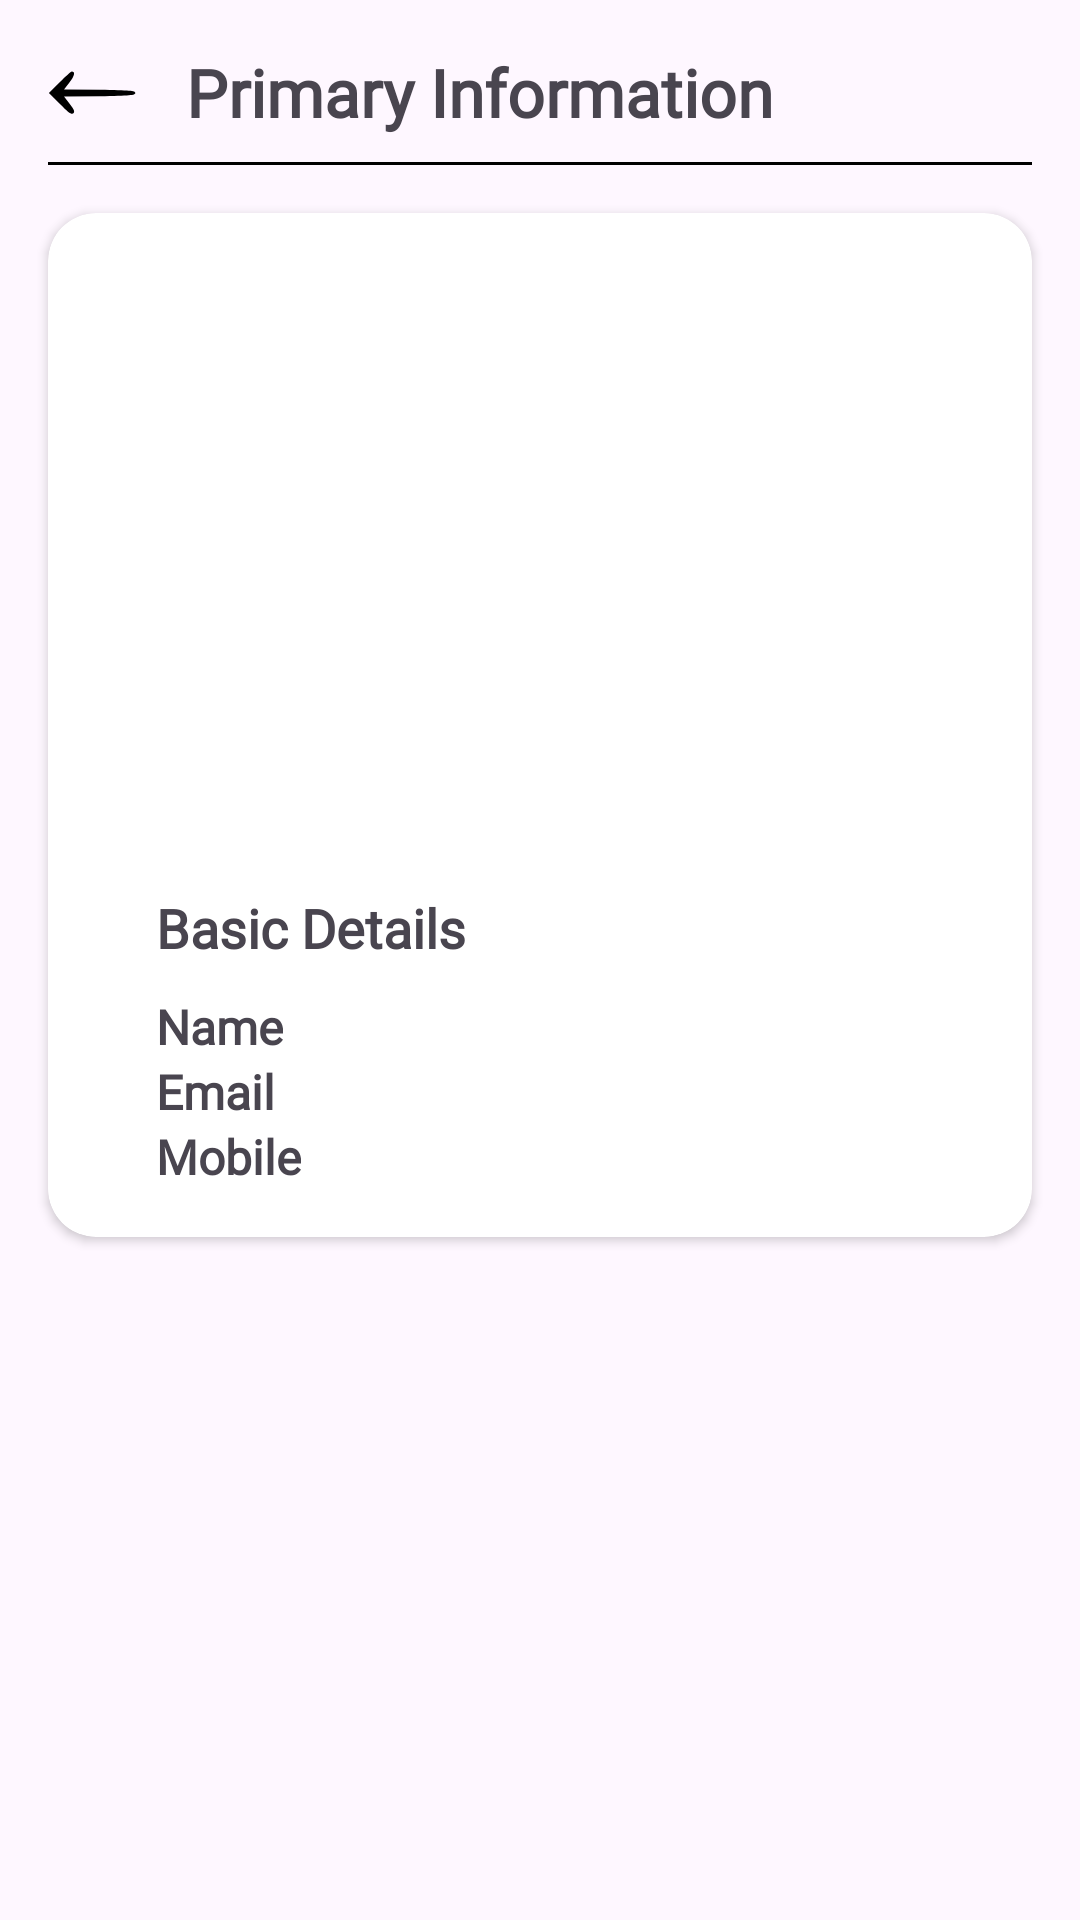

Point at icon controls on the screen. Image size 1080x1920, points as (x=x, y=y).
backarrow: (x=92, y=92)
